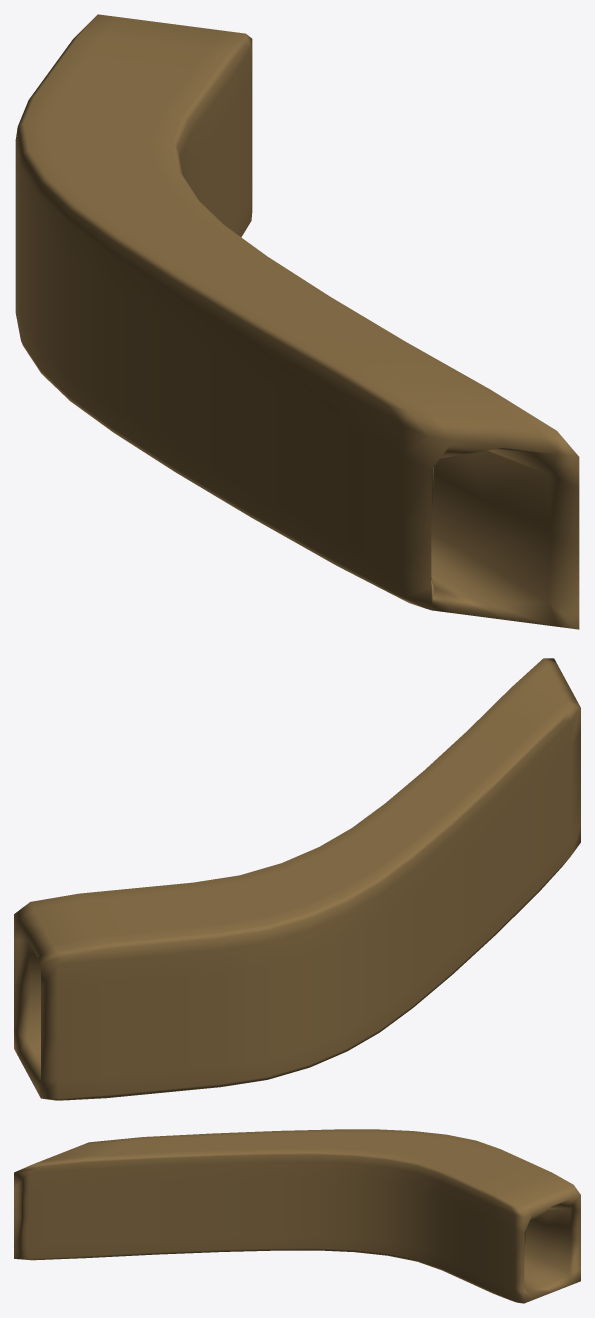
File: pasillo_final.fbx
The picture shows the model from 3 angles, top to bottom: view 1: azimuth 30°, elevation 25°; view 2: azimuth 150°, elevation 25°; view 3: azimuth 270°, elevation 25°; orthographic projection. The views are drawn at different scales.
Visible parts, largest first — view 1: final:pCube34; view 2: final:pCube34; view 3: final:pCube34.
Part boxes in pixels (x1,y1,x2,y2): final:pCube34: (15,14,579,629); final:pCube34: (14,658,580,1100); final:pCube34: (14,1129,580,1303).
Bounding box in the file's own units: 1470 × 849 × 4413.
